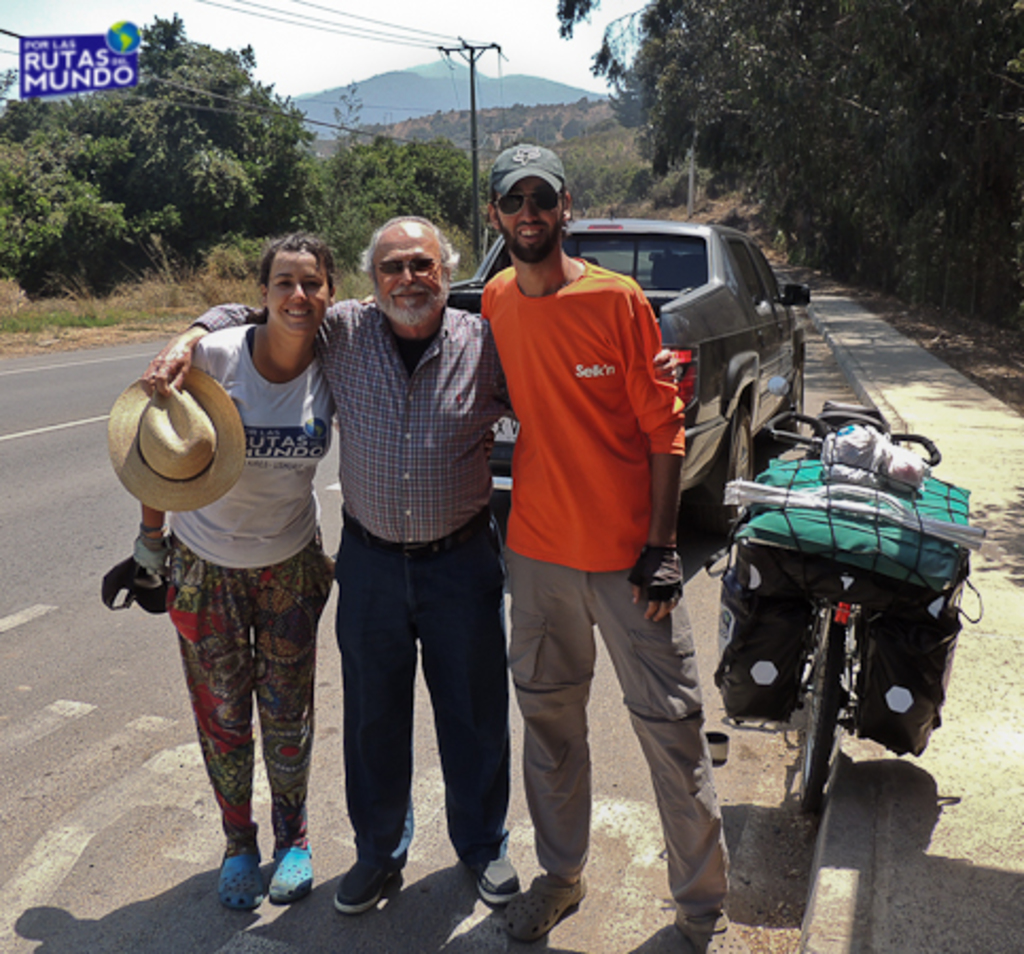Car: (593, 207, 811, 479)
